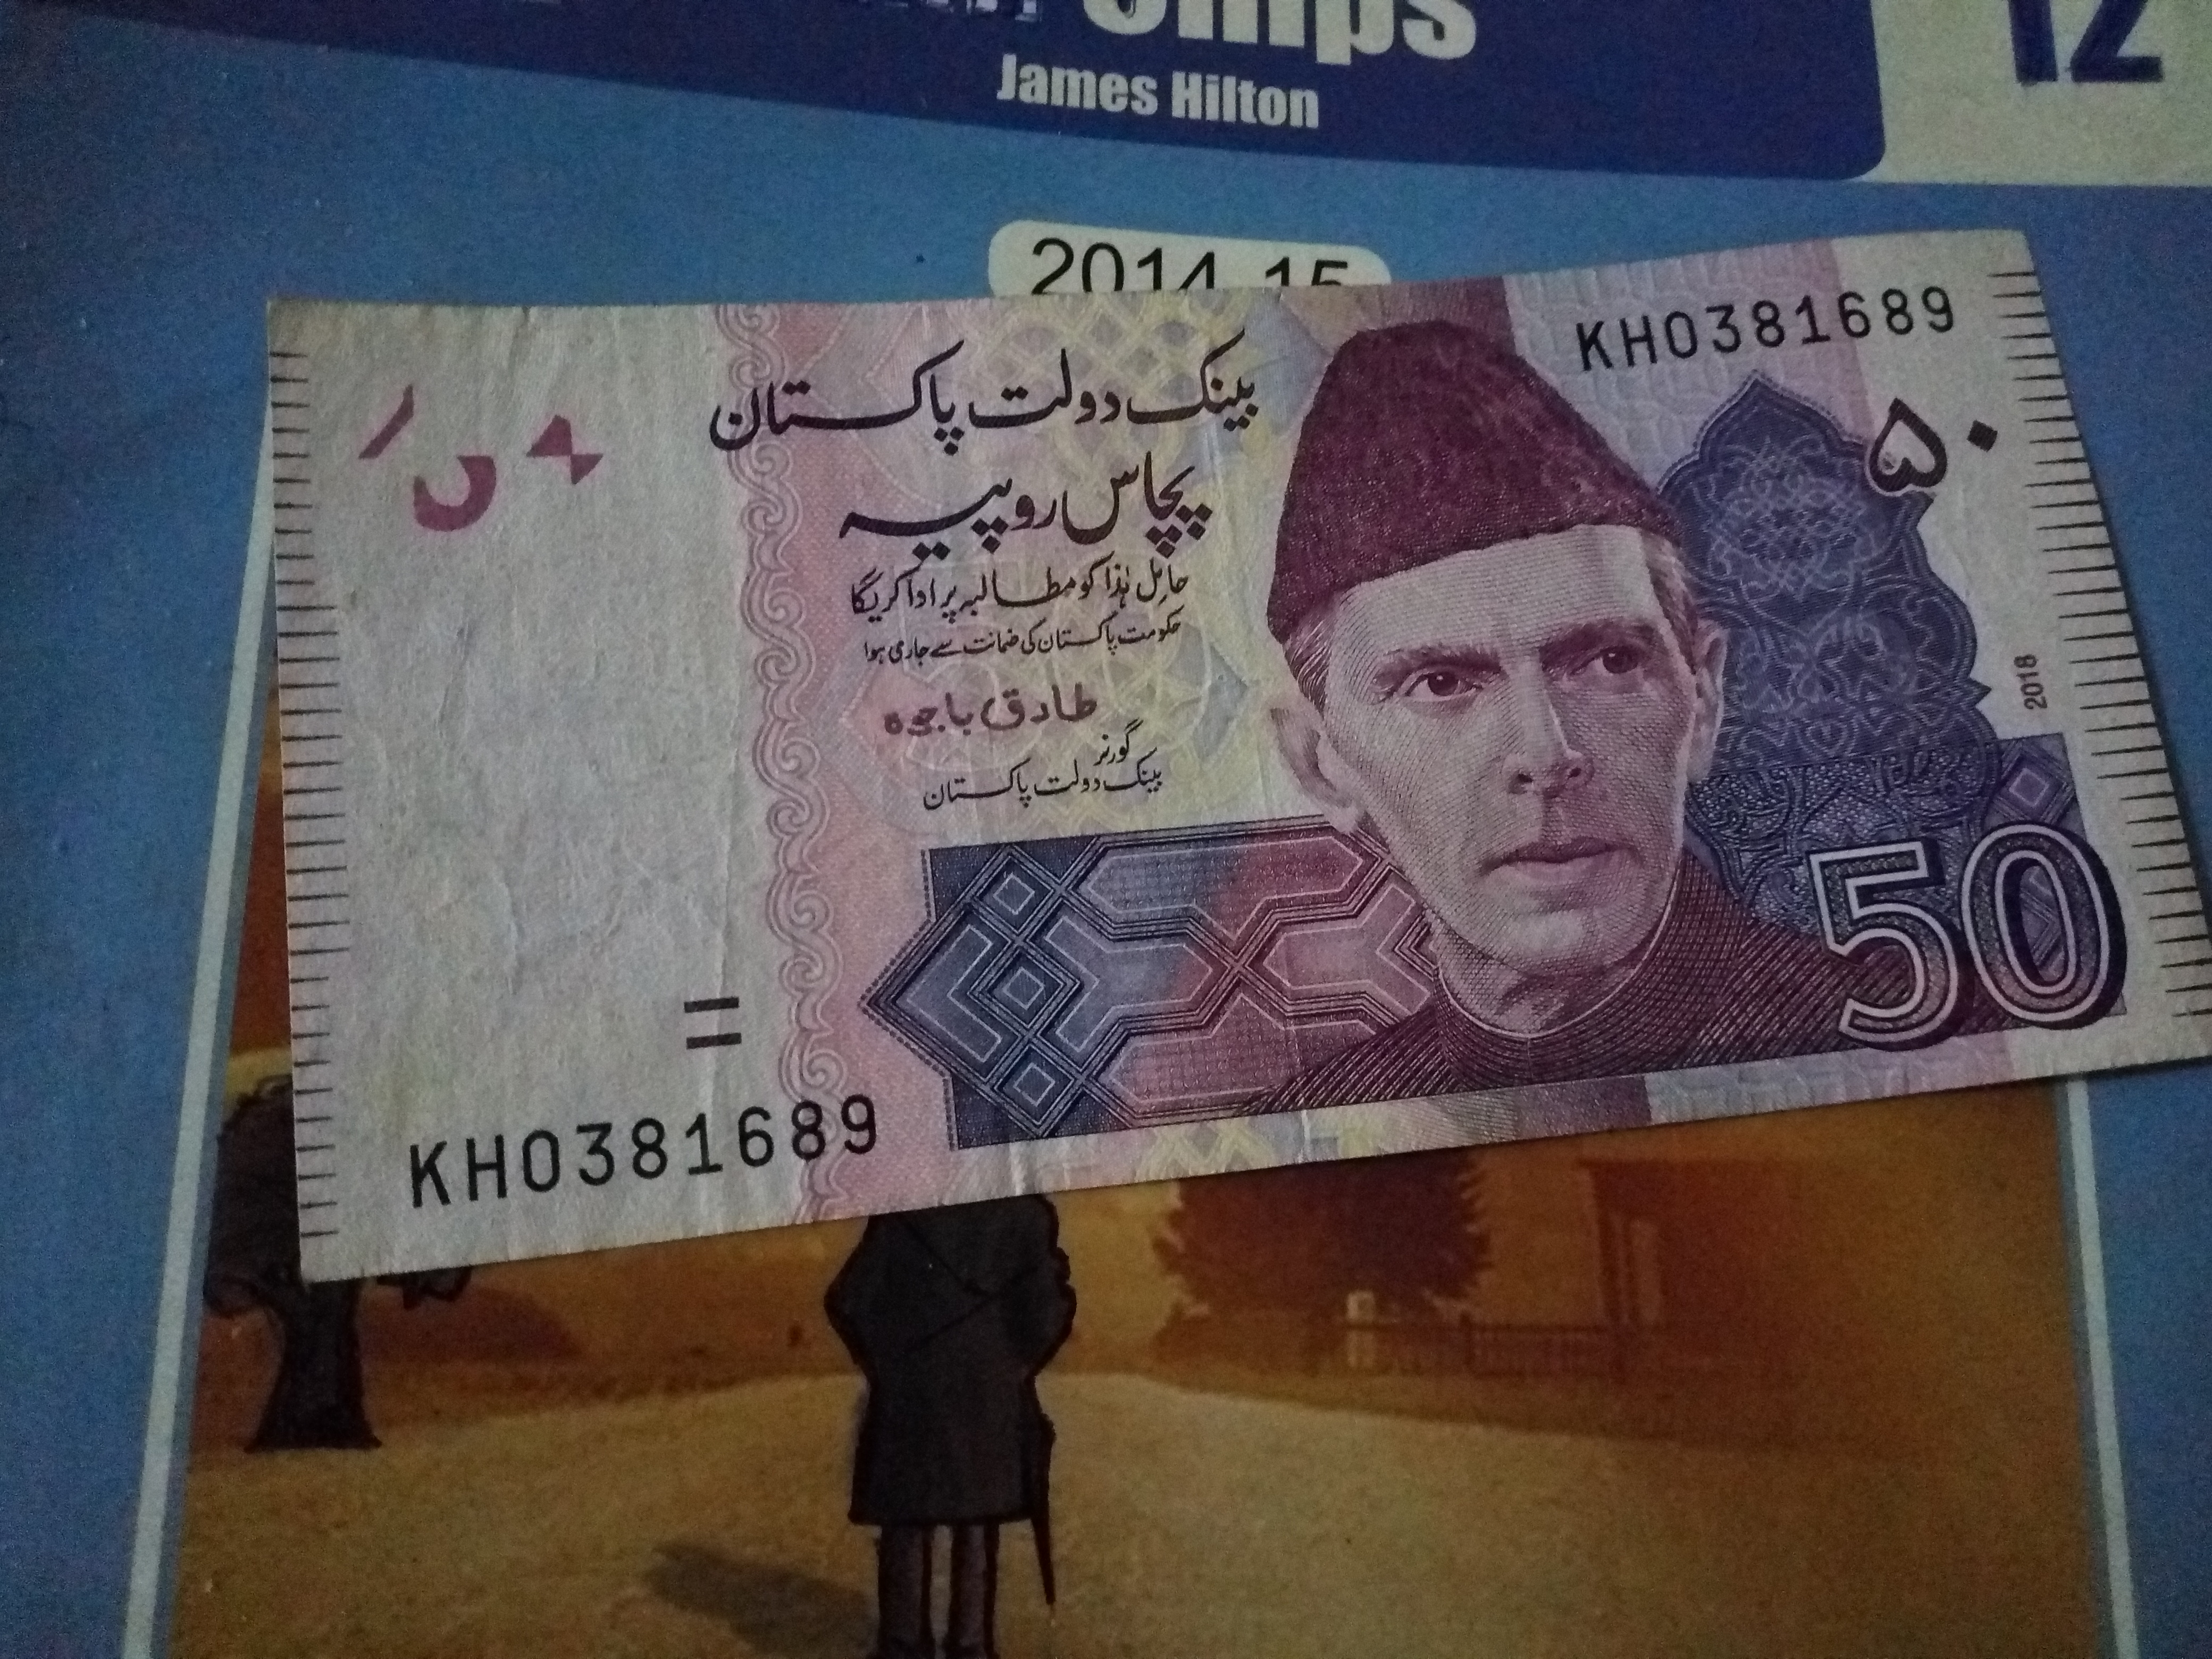50 rupee: (223, 251, 2165, 1291)
